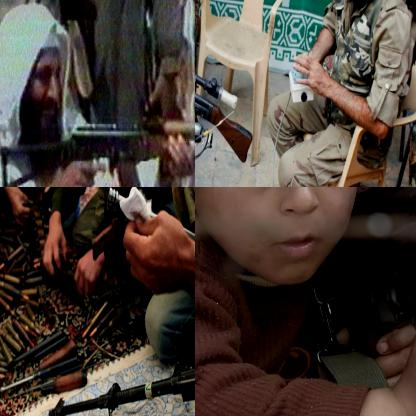rifle: (323, 187, 415, 415), (0, 113, 194, 186), (46, 350, 194, 415), (195, 20, 253, 165)
